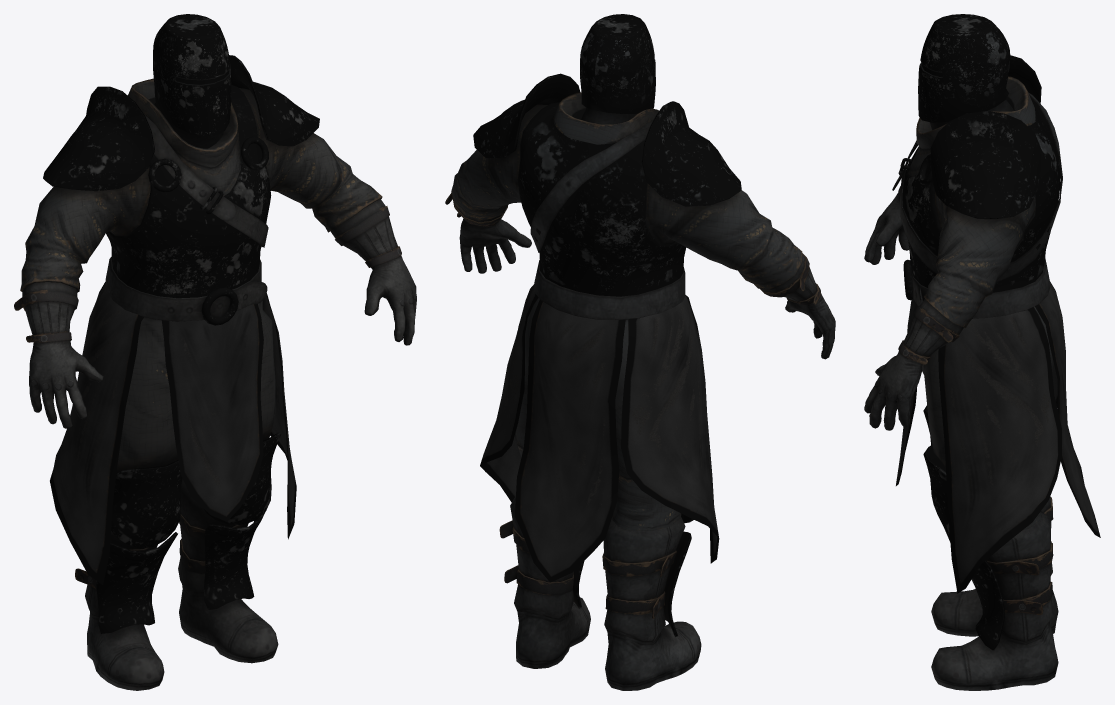
Rendered from strongknight_norigg.fbx.
3 views of the same model, side by side, from view 1: azimuth 30°, elevation 25°; view 2: azimuth 150°, elevation 25°; view 3: azimuth 270°, elevation 25° (orthographic). The views are drawn at different scales.
Visible parts, largest first — view 1: body, cloth; view 2: body, cloth; view 3: body, cloth.
Part boxes in pixels (box(x1,y1,x2,y2)): body: box(14, 14, 416, 690); cloth: box(50, 282, 296, 584); body: box(445, 14, 835, 690); cloth: box(480, 284, 719, 582); body: box(864, 14, 1062, 690); cloth: box(896, 281, 1100, 593).
Bounding box in the file's own units: 130 × 206 × 70.2.
2 materials, 2 textured.
